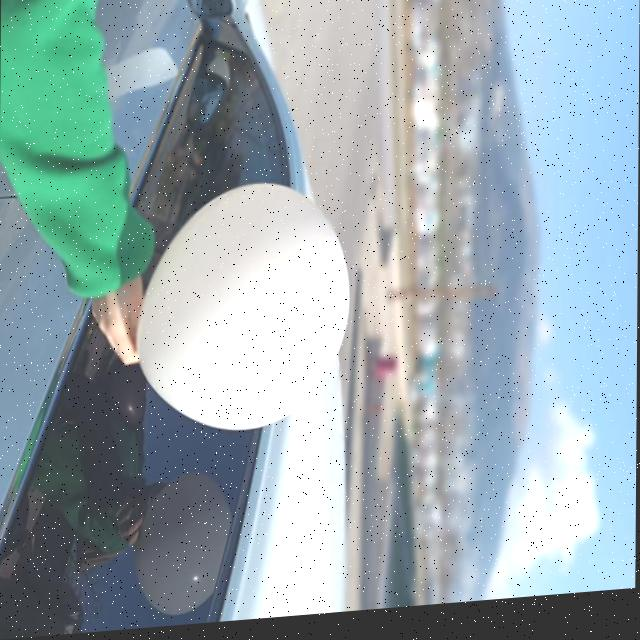balloon: (135, 178, 356, 435)
